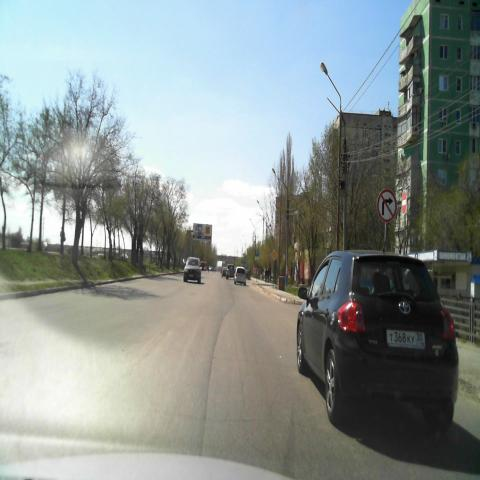3_18: (376, 188, 397, 223)
